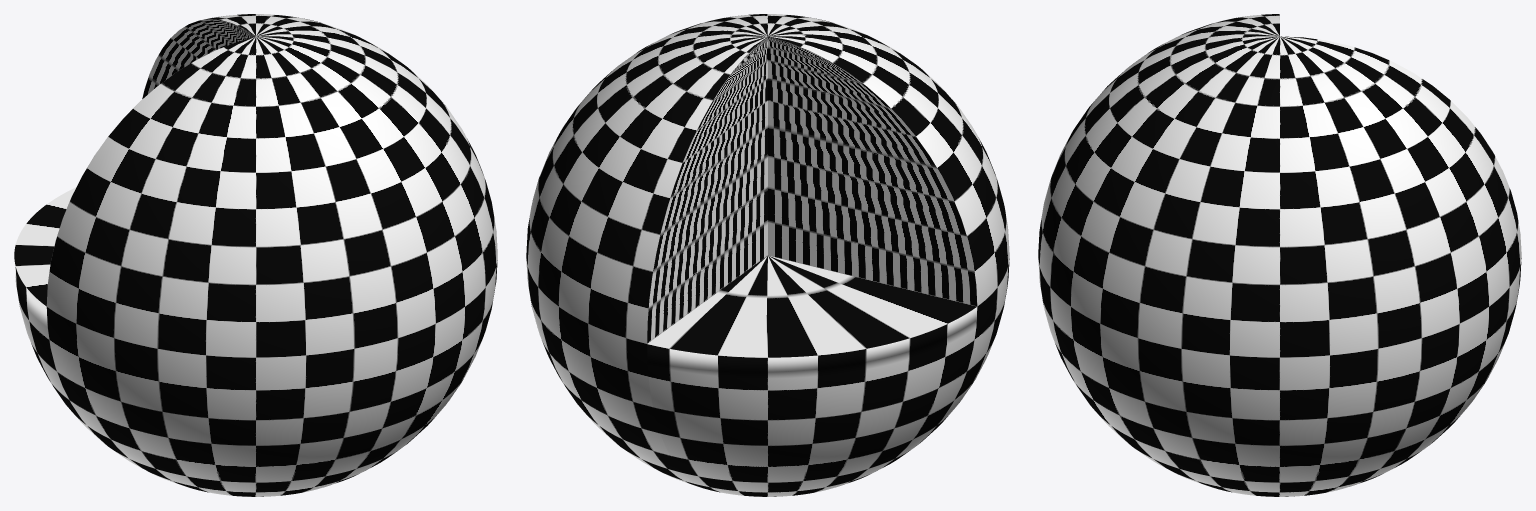
The model's file is sphere01_wedge.fbx.
The picture shows the model from 3 angles, left to right: view 1: azimuth 30°, elevation 25°; view 2: azimuth 150°, elevation 25°; view 3: azimuth 270°, elevation 25°; orthographic projection.
Parts seen in each view (by area): view 1: Sphere004, Sphere005; view 2: Sphere004, Sphere005; view 3: Sphere004.
Part boxes in pixels (<box>): Sphere004: <box>46,14,497,496</box>; Sphere005: <box>14,187,106,445</box>; Sphere004: <box>526,14,1009,489</box>; Sphere005: <box>647,255,977,496</box>; Sphere004: <box>1038,14,1521,496</box>.
Bounding box in the file's own units: 2.03 × 2.03 × 2.03.
Materials: 1 (1 with a texture image).
